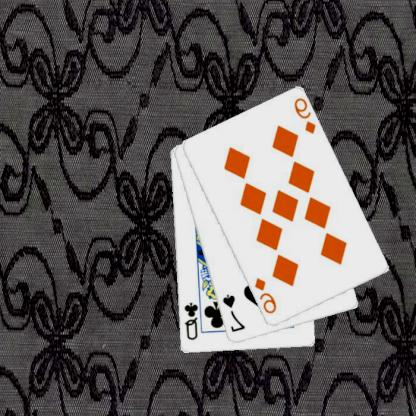7S: (221, 292, 248, 334)
9D: (253, 275, 280, 316), (293, 95, 319, 136)
QC: (182, 300, 201, 342)
